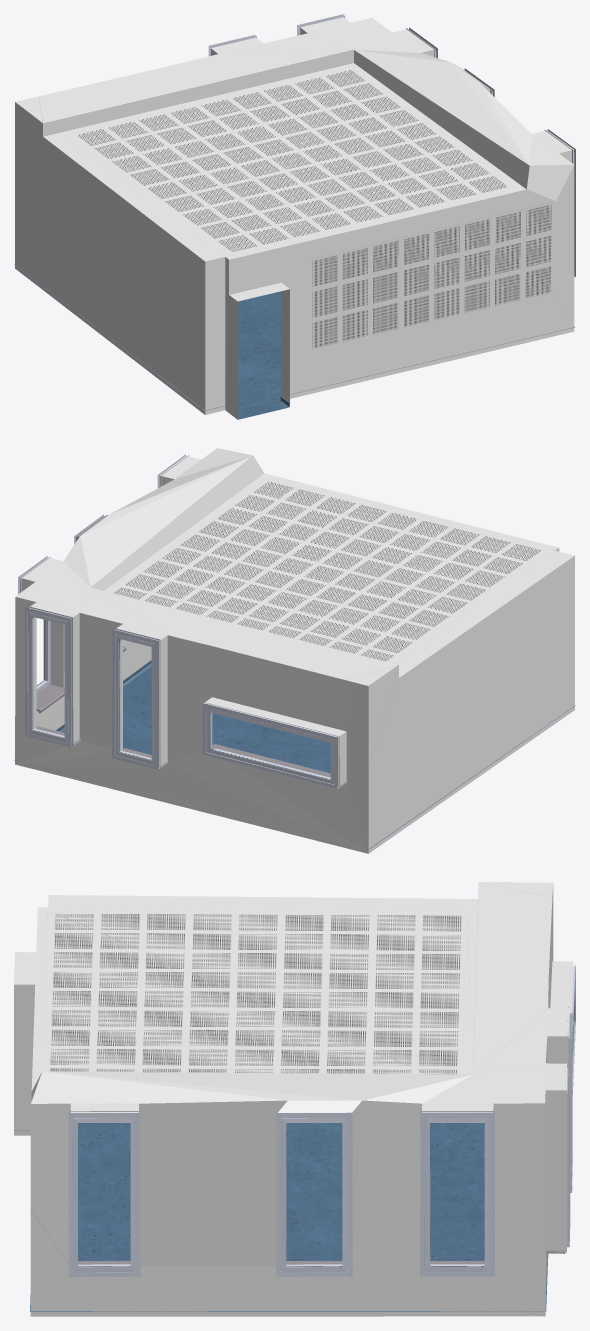
3 renders of one model, top to bottom at view 1: azimuth 30°, elevation 25°; view 2: azimuth 150°, elevation 25°; view 3: azimuth 270°, elevation 25°, orthographic. The views are drawn at different scales.
Visible parts, largest first — view 1: SM_EB408; view 2: SM_EB408; view 3: SM_EB408.
Part boxes in pixels (left/top/right/bottom): SM_EB408: left=14, top=14, right=575, bottom=419; SM_EB408: left=14, top=448, right=575, bottom=853; SM_EB408: left=14, top=882, right=575, bottom=1316.
Bounding box in the file's own units: 7.96 × 3.47 × 7.99.
Materials: 1 (1 with a texture image).
